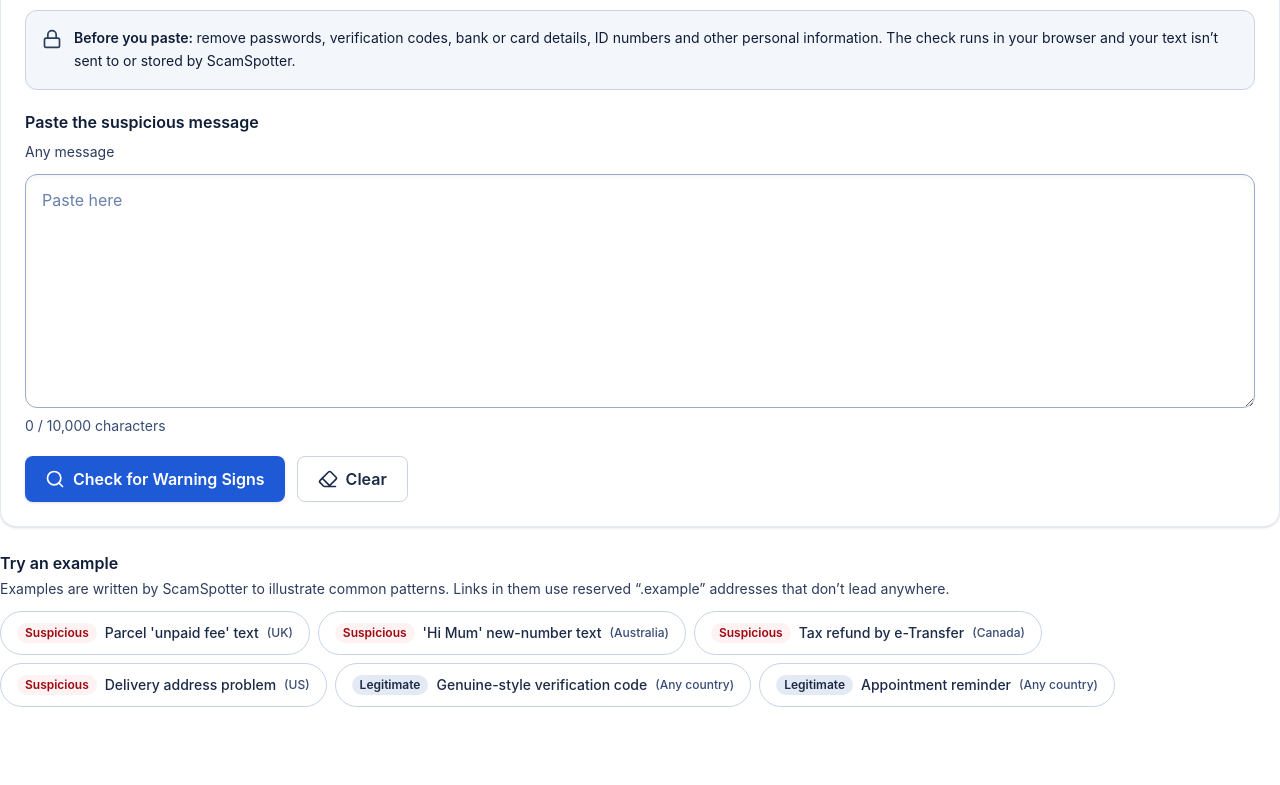
Test: TextChecker › analyses a message and announces the result
Type "URGENT: your account is locked. Send me the verification code now" into the text box labelled "Paste the suspicious message".
click(640, 290); type("URGENT: your account is locked. Send me the verification code now")  # box [25, 174, 1255, 408]
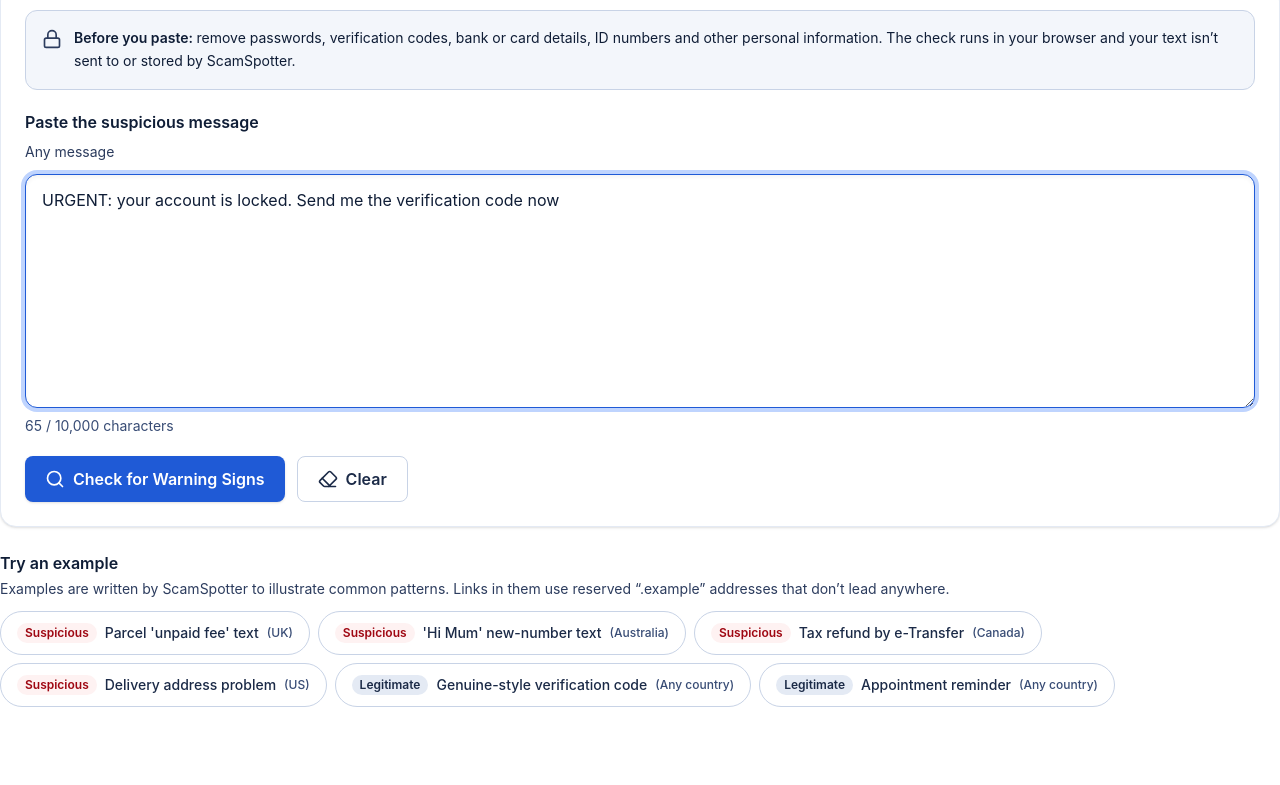
Click the button "Check for Warning Signs".
click(155, 478)  # box [25, 456, 285, 502]
(page scrolled)
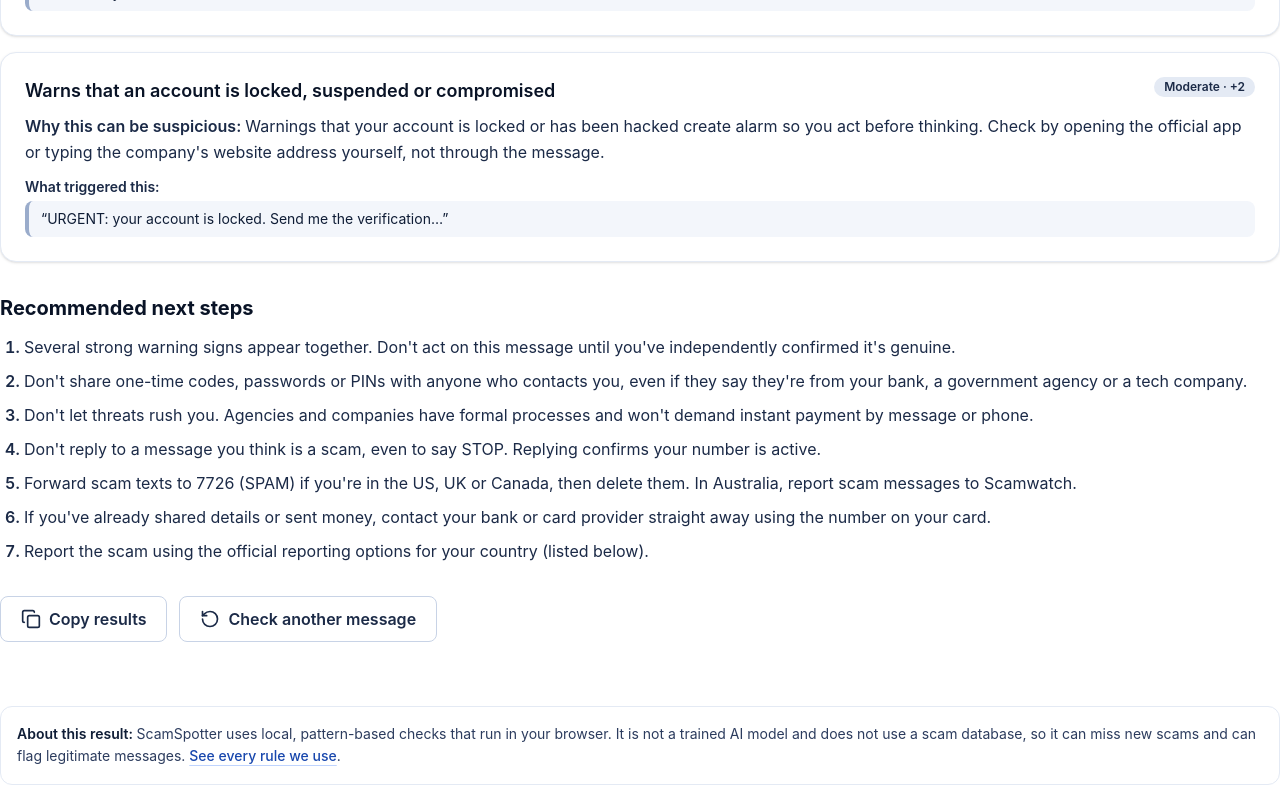
Expected: the heading "Recommended next steps" is shown, [0, 296, 254, 320]
Expected: the text "not a trained AI model" is shown, [17, 724, 1256, 764]
